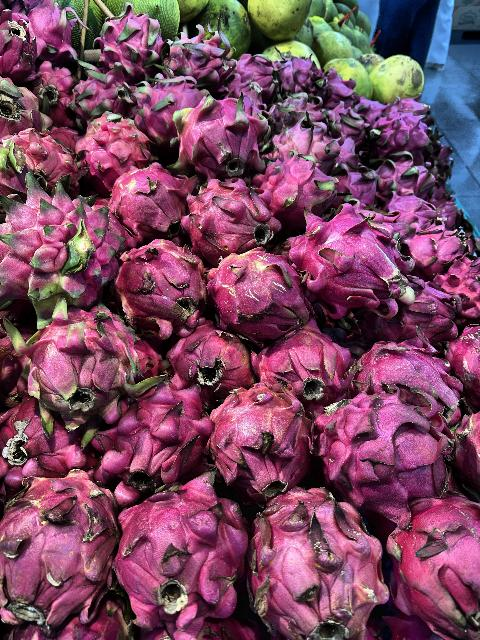buah-naga-matang: (252, 490, 392, 640), (118, 484, 251, 640), (2, 468, 118, 632), (312, 386, 450, 520), (17, 290, 151, 426), (286, 210, 418, 320), (4, 185, 120, 309), (390, 488, 480, 636), (204, 382, 314, 500), (106, 388, 208, 490), (359, 337, 471, 429), (205, 249, 309, 345), (252, 324, 350, 404), (3, 392, 83, 488), (181, 177, 275, 253), (173, 95, 265, 168), (117, 255, 202, 333), (164, 322, 250, 398), (107, 164, 195, 236), (75, 110, 153, 176), (258, 155, 340, 217), (6, 128, 80, 196), (91, 8, 161, 76), (159, 25, 231, 87), (384, 282, 458, 342), (276, 115, 344, 169), (138, 76, 198, 134), (68, 67, 128, 125), (408, 220, 468, 276), (232, 52, 280, 104), (336, 160, 382, 208)
